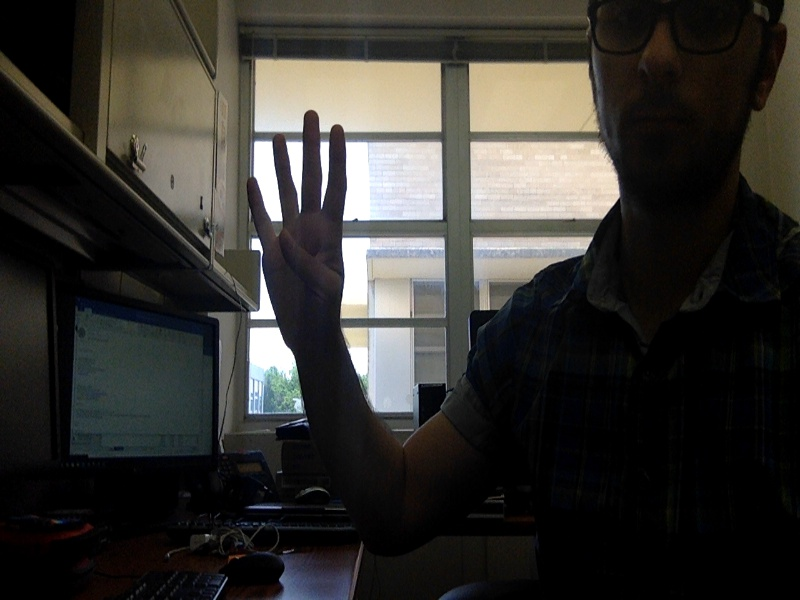4-hand: (249, 111, 351, 334)
